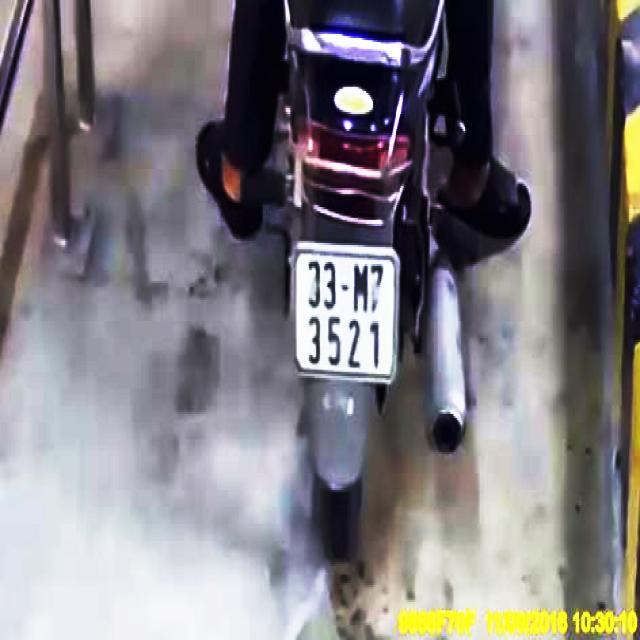license_plate: (297, 247, 395, 383)
